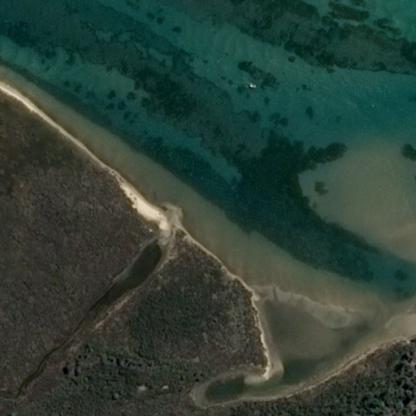ship: (246, 82, 254, 87)
